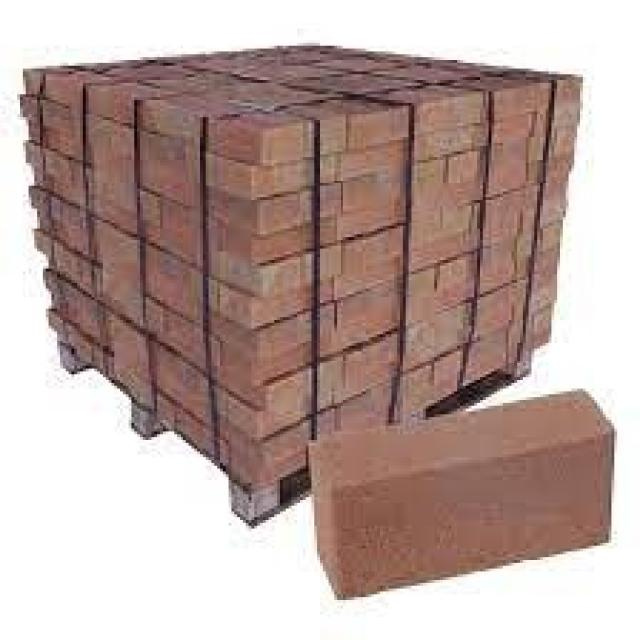bricks: (26, 46, 577, 523)
